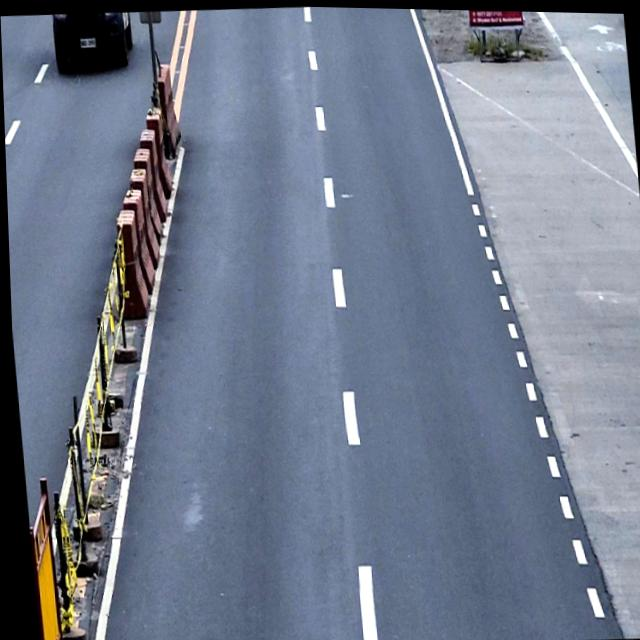Car: (51, 10, 136, 72)
License-Plate: (78, 35, 97, 49)
